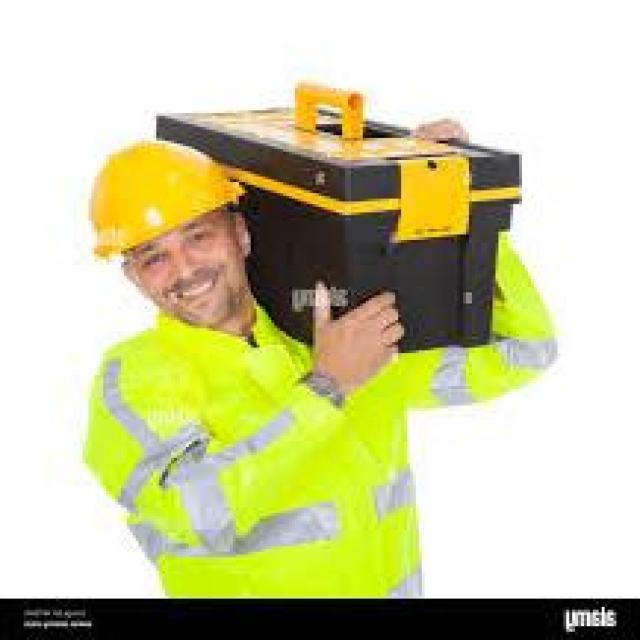Reflective-Jacket: (68, 312, 436, 596)
Safety-Helmet: (82, 135, 254, 262)
